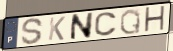C: (93, 11, 119, 37)
H: (143, 4, 167, 35)
K: (47, 15, 67, 42)
N: (69, 11, 95, 42)
Q: (119, 8, 142, 36)
S: (20, 17, 45, 46)
